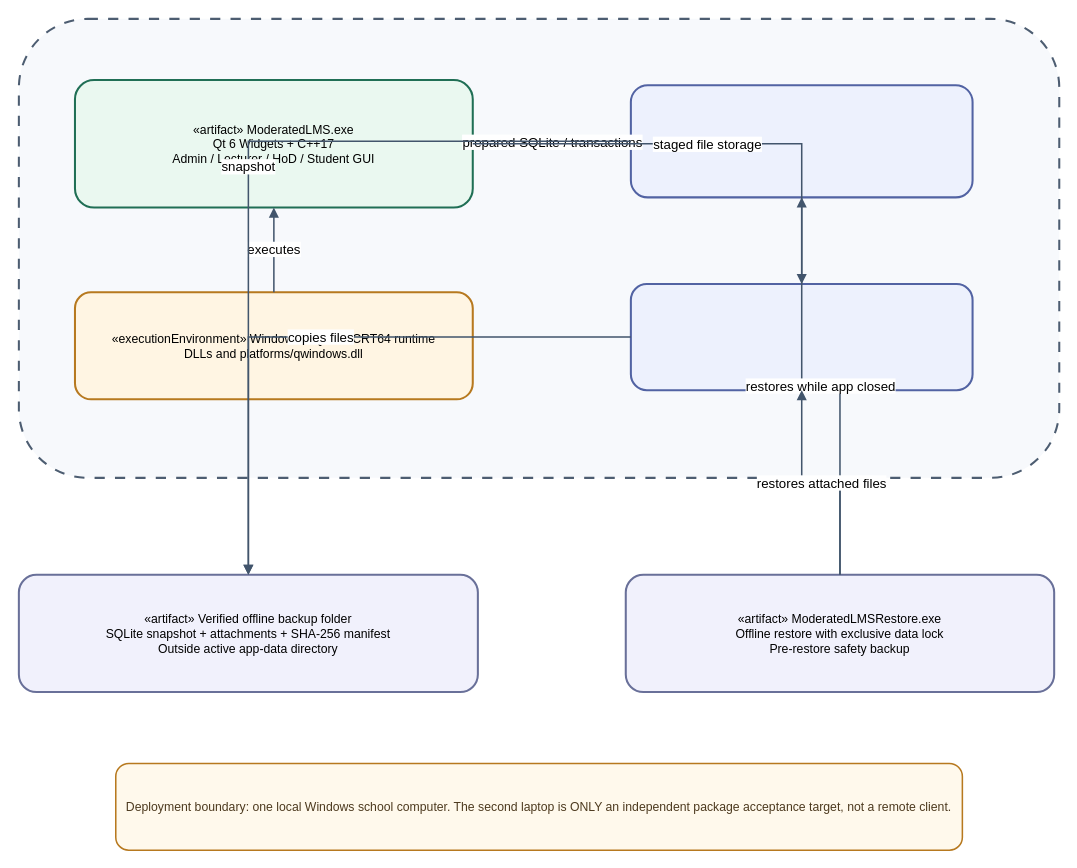
Some shapes in this 1077 by 868 pixel diagram are drawn without their labels. The box of each missing label's shape, as (x1, y1, x2, y2) in pixels:
«artifact» attachments/files/ Local student submissions (PDF / DOCX / TXT): (629, 283, 973, 391)
«artifact» lms.sqlite3 SQLite 3: v1.0 12 tables v1.1 + class_deadline_extensions: (629, 84, 973, 198)
«device» School Windows PC (offline): (17, 17, 1060, 478)
